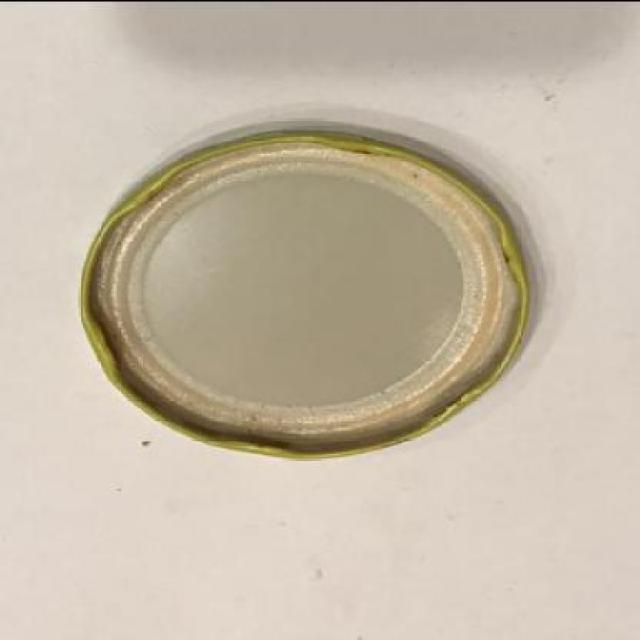METAL: (76, 130, 529, 458)
